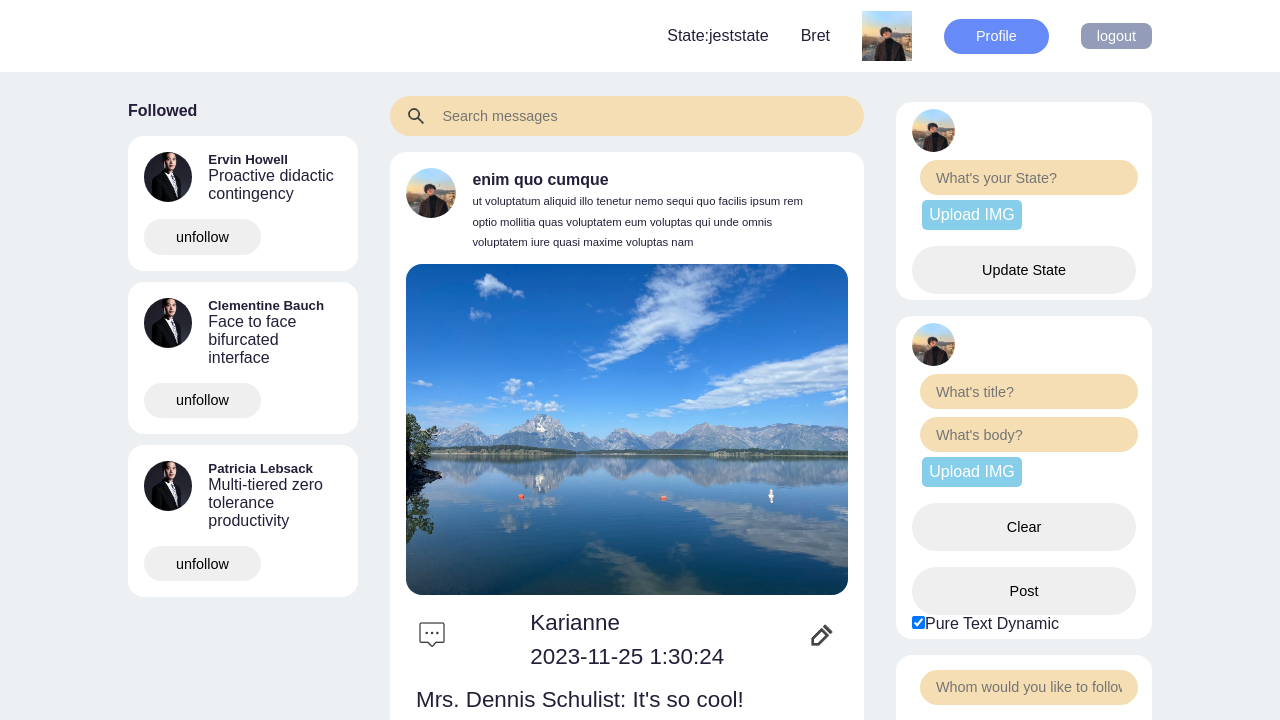
Scenario: <Main /> › update Trends
Type "jestposttitle" into the field with placeholder "What's title?" at {"x": 1029, "y": 392}, box [920,374,1138,409]
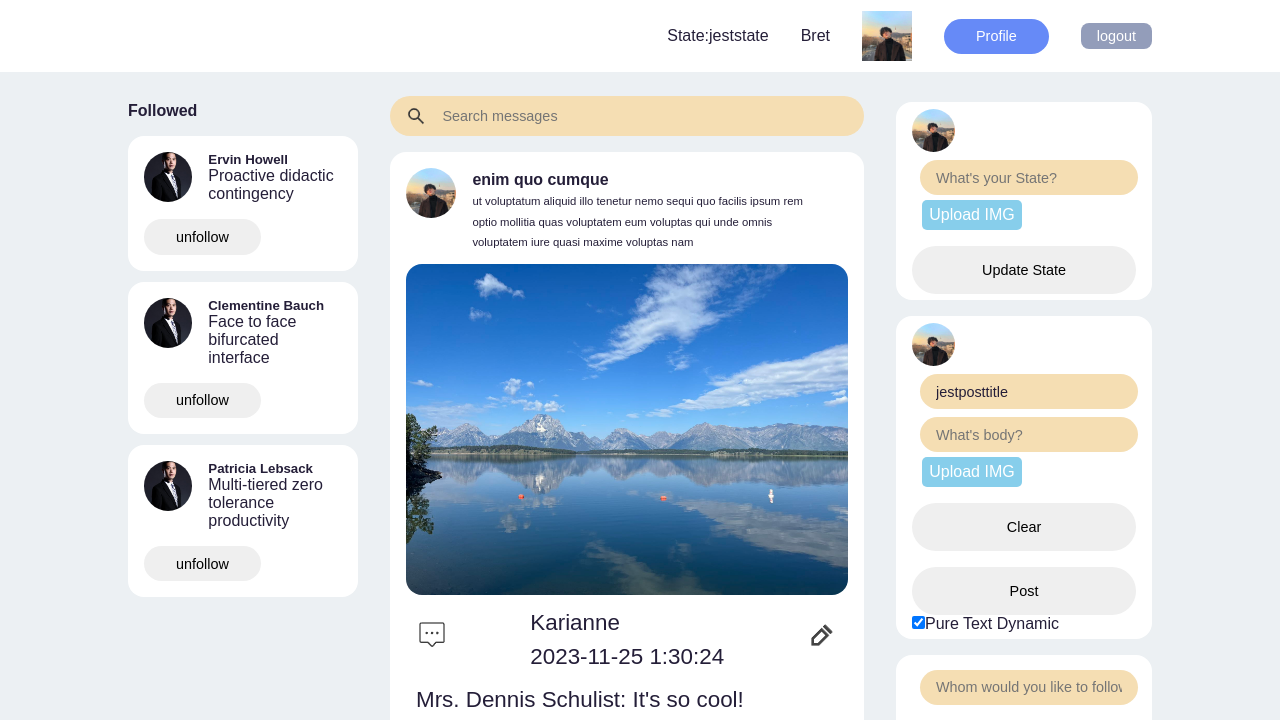
Type "jestpostbody" into the field with placeholder "What's body?" at {"x": 1029, "y": 435}, box [920,417,1138,452]
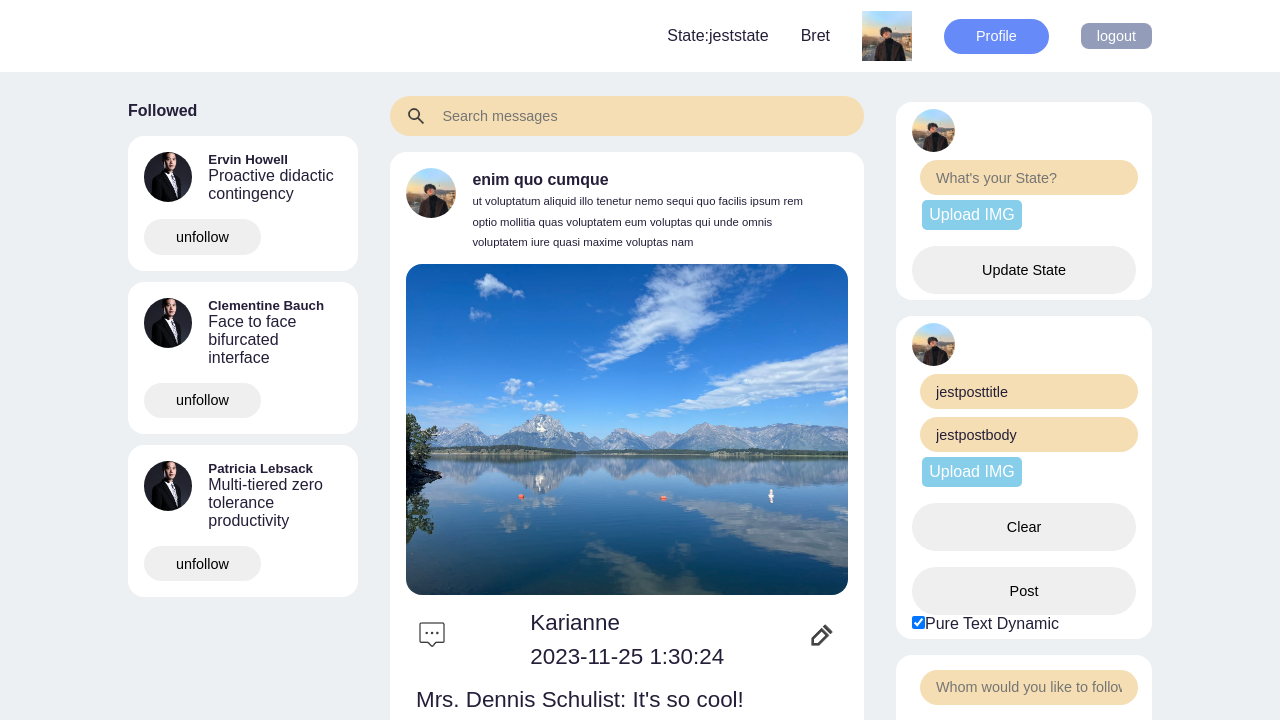
Click the button with test id "post-button" at {"x": 1024, "y": 591}, box [912,567,1136,615]
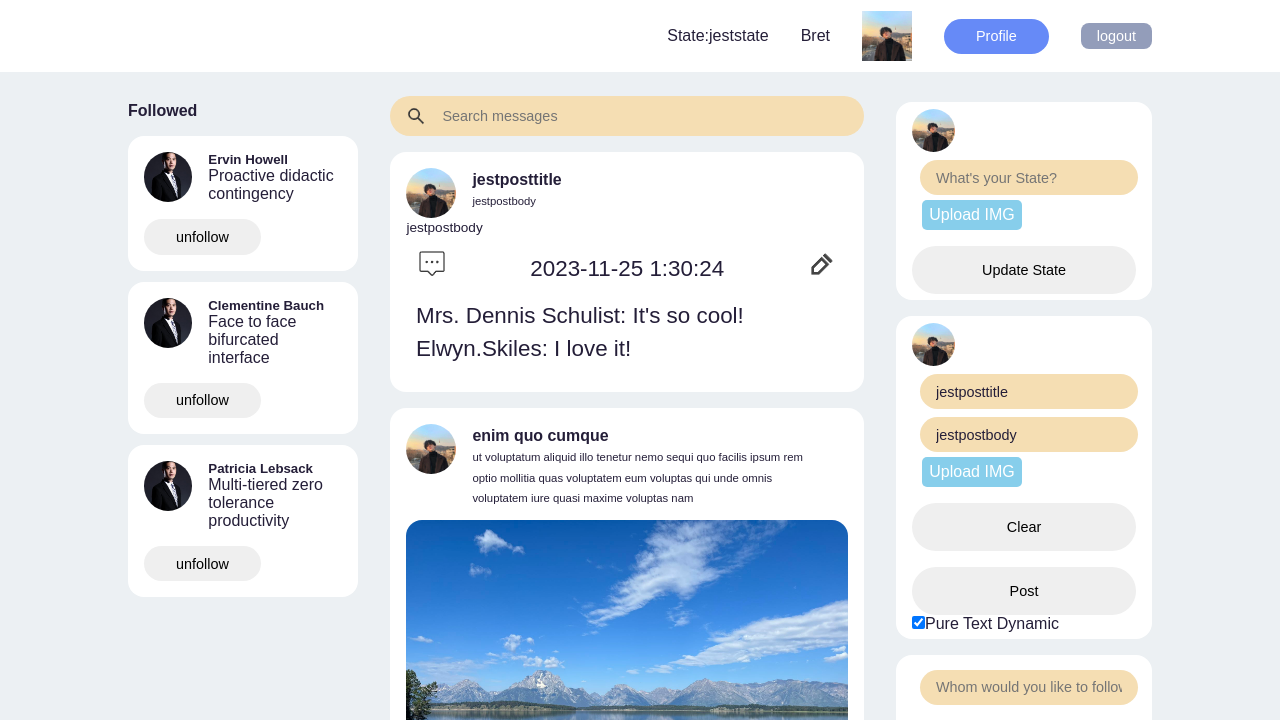
Expected: the text "jestpostbody" is shown 2 times, [472,195,536,207]; [406,220,483,235]
